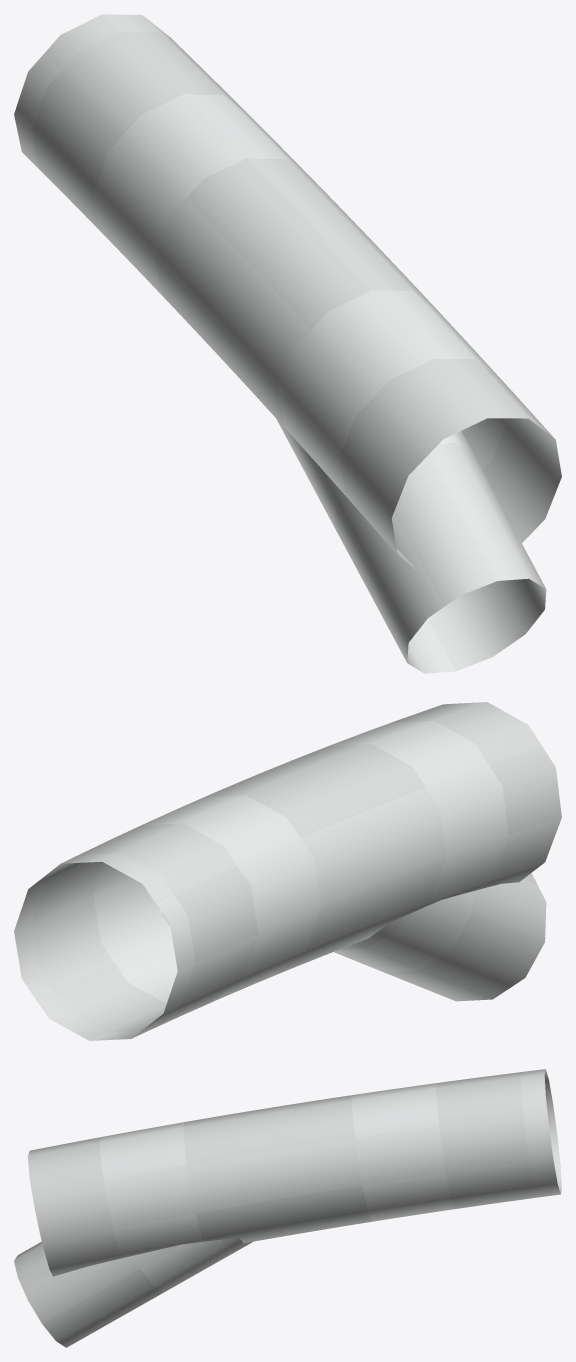
The model's file is luminairearm_truss12ftdouble_c6.obj.
The picture shows the model from 3 angles, top to bottom: view 1: azimuth 30°, elevation 25°; view 2: azimuth 150°, elevation 25°; view 3: azimuth 270°, elevation 25°; orthographic projection. The views are drawn at different scales.
Parts seen in each view (by area): view 1: luminairearm_truss12ftdouble_c6; view 2: luminairearm_truss12ftdouble_c6; view 3: luminairearm_truss12ftdouble_c6.
Boxes of the visible parts, x1,y1,x2,y2 form: luminairearm_truss12ftdouble_c6: (14,14,561,673); luminairearm_truss12ftdouble_c6: (14,702,561,1040); luminairearm_truss12ftdouble_c6: (14,1069,561,1347).
Bounding box in the file's own units: 0.195 × 0.4358 × 0.8096.
